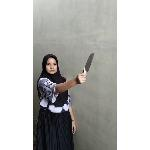Pisau: (75, 51, 97, 79)
